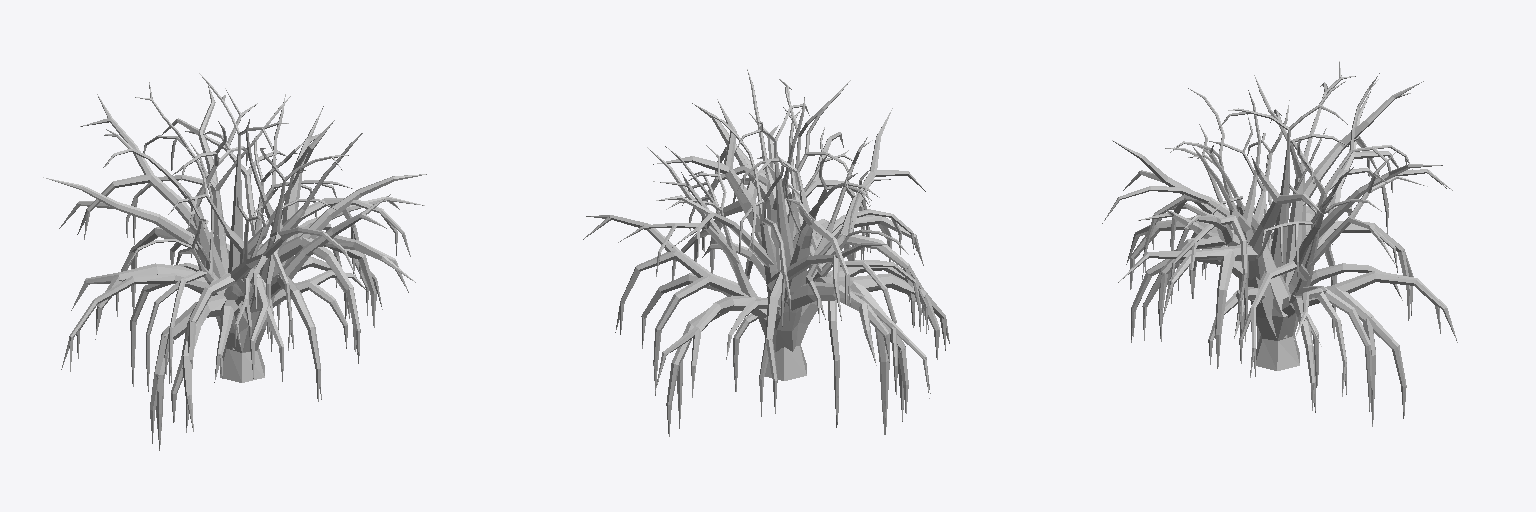
The model's file is tree21.obj.
3 renders of one model, left to right at view 1: azimuth 30°, elevation 25°; view 2: azimuth 150°, elevation 25°; view 3: azimuth 270°, elevation 25°, orthographic.
Parts seen in each view (by area): view 1: tree; view 2: tree; view 3: tree.
Boxes of the visible parts, <box> form: tree: <box>43,73,426,450</box>; tree: <box>583,69,949,436</box>; tree: <box>1102,61,1457,426</box>.
Bounding box in the file's own units: 9.32 × 8.2 × 8.07.